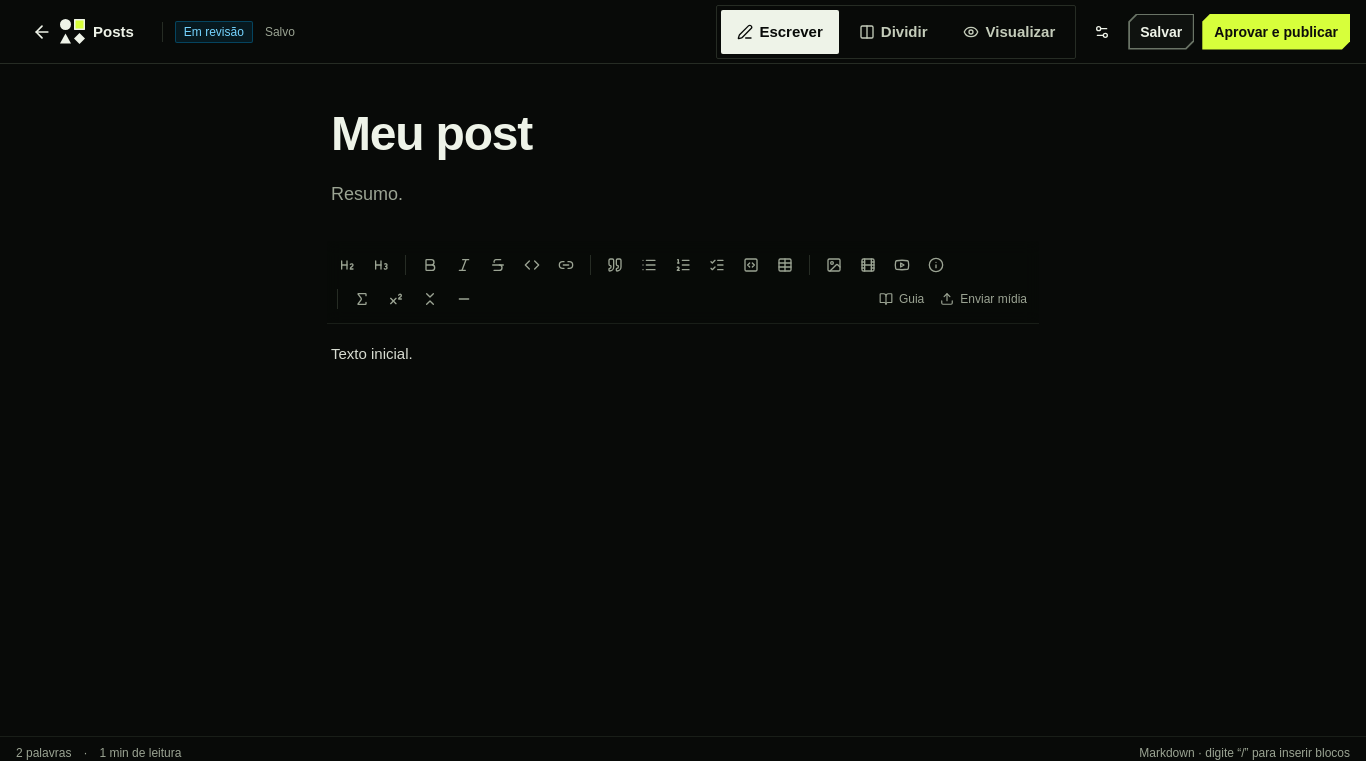
it: botões conforme o papel › editor vê "Aprovar e publicar" num post em revisão e pode trocar o autor
The image size is (1366, 761).
Expected: the button "Aprovar e publicar" is shown, top-left (1202, 14), bottom-right (1350, 50)
Click the button named "Configurações do post" at (1102, 32), box top-left (1084, 14), bottom-right (1120, 50)
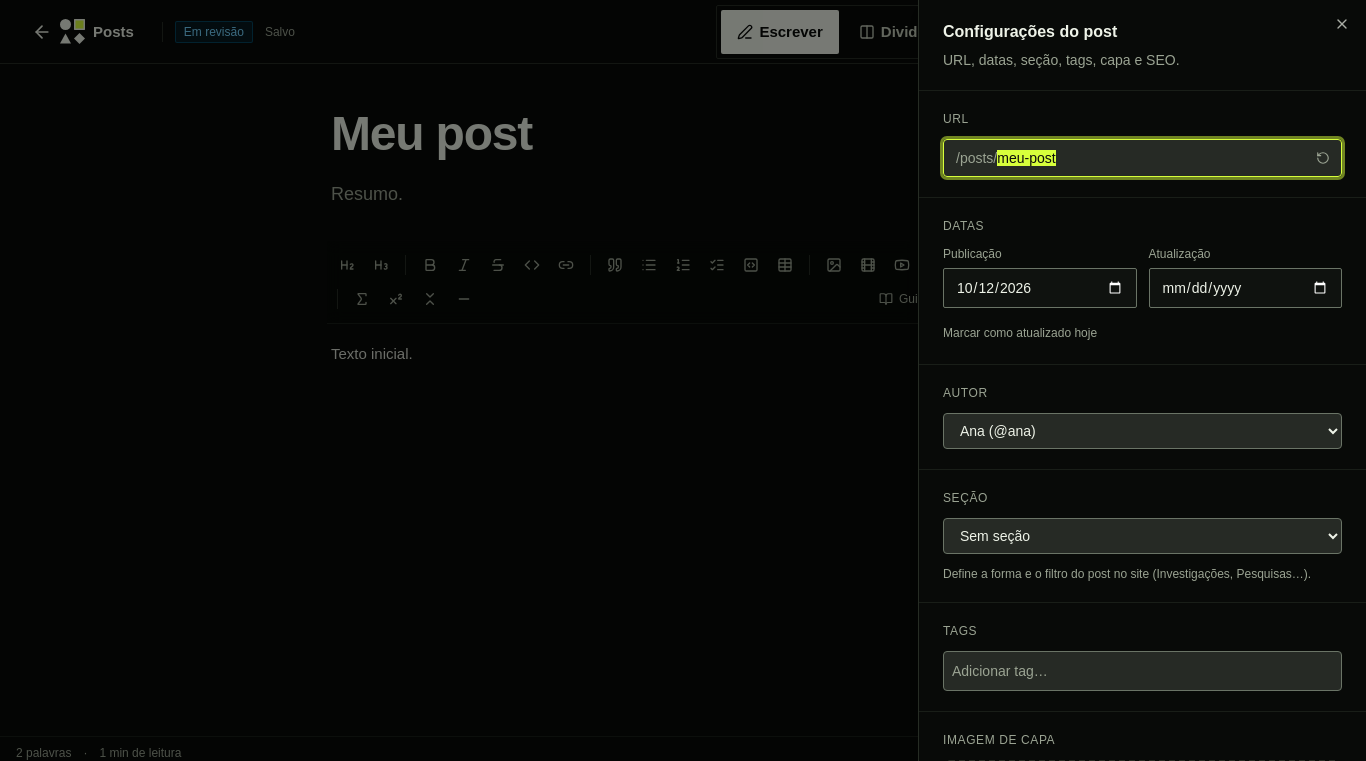
Now the dropdown named "Autor do post" is shown, box top-left (943, 413), bottom-right (1342, 449)
